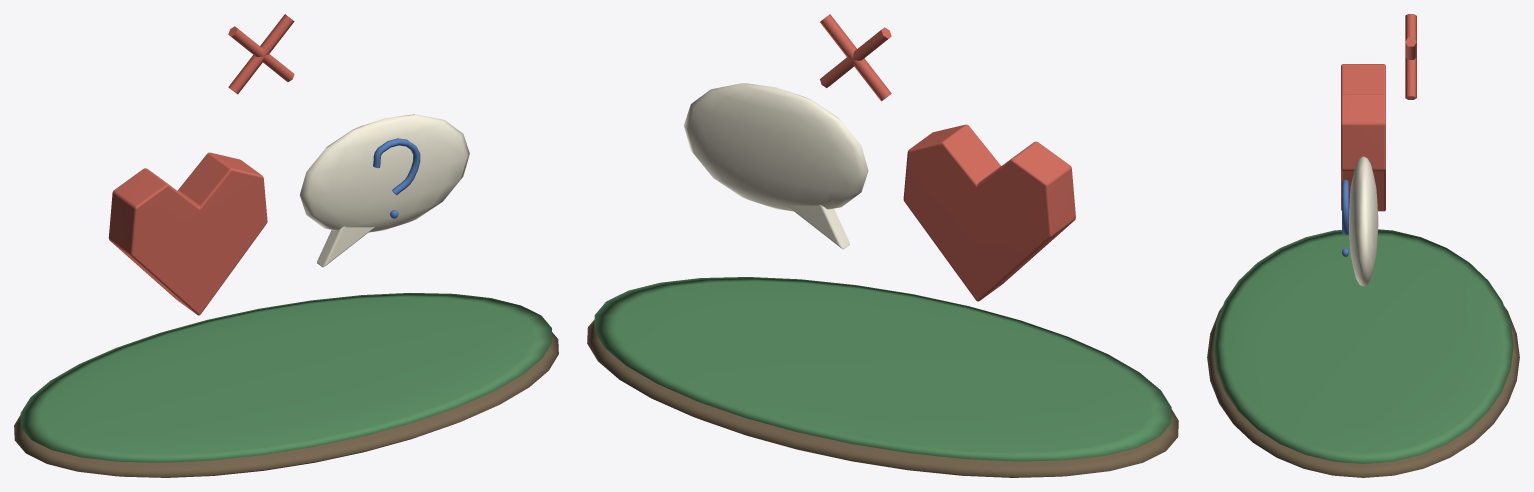
File: complete-third-heart-question.glb
3 renders of one model, left to right at view 1: azimuth 30°, elevation 25°; view 2: azimuth 150°, elevation 25°; view 3: azimuth 270°, elevation 25°, orthographic. The views are drawn at different scales.
Parts seen in each view (by area): view 1: complete-third-heart-question_surface_01, complete-third-heart-question_surface_02, complete-third-heart-question_surface_03, complete-third-heart-question_surface_00, complete-third-heart-question_surface_04; view 2: complete-third-heart-question_surface_01, complete-third-heart-question_surface_02, complete-third-heart-question_surface_03, complete-third-heart-question_surface_00; view 3: complete-third-heart-question_surface_01, complete-third-heart-question_surface_02, complete-third-heart-question_surface_00, complete-third-heart-question_surface_03, complete-third-heart-question_surface_04.
Boxes of the visible parts, box(x1,y1,x2,y2) form: complete-third-heart-question_surface_01: box(20, 293, 552, 462); complete-third-heart-question_surface_02: box(108, 14, 294, 315); complete-third-heart-question_surface_03: box(300, 114, 469, 267); complete-third-heart-question_surface_00: box(14, 332, 558, 477); complete-third-heart-question_surface_04: box(373, 138, 420, 218); complete-third-heart-question_surface_01: box(594, 277, 1171, 461); complete-third-heart-question_surface_02: box(820, 14, 1075, 301); complete-third-heart-question_surface_03: box(684, 83, 868, 249); complete-third-heart-question_surface_00: box(587, 319, 1178, 477); complete-third-heart-question_surface_01: box(1213, 229, 1513, 463); complete-third-heart-question_surface_02: box(1341, 14, 1416, 211); complete-third-heart-question_surface_00: box(1207, 306, 1519, 477); complete-third-heart-question_surface_03: box(1349, 156, 1378, 286); complete-third-heart-question_surface_04: box(1342, 179, 1348, 256).
Size of the model in its own units: 4.56 by 3.06 by 2.5.
